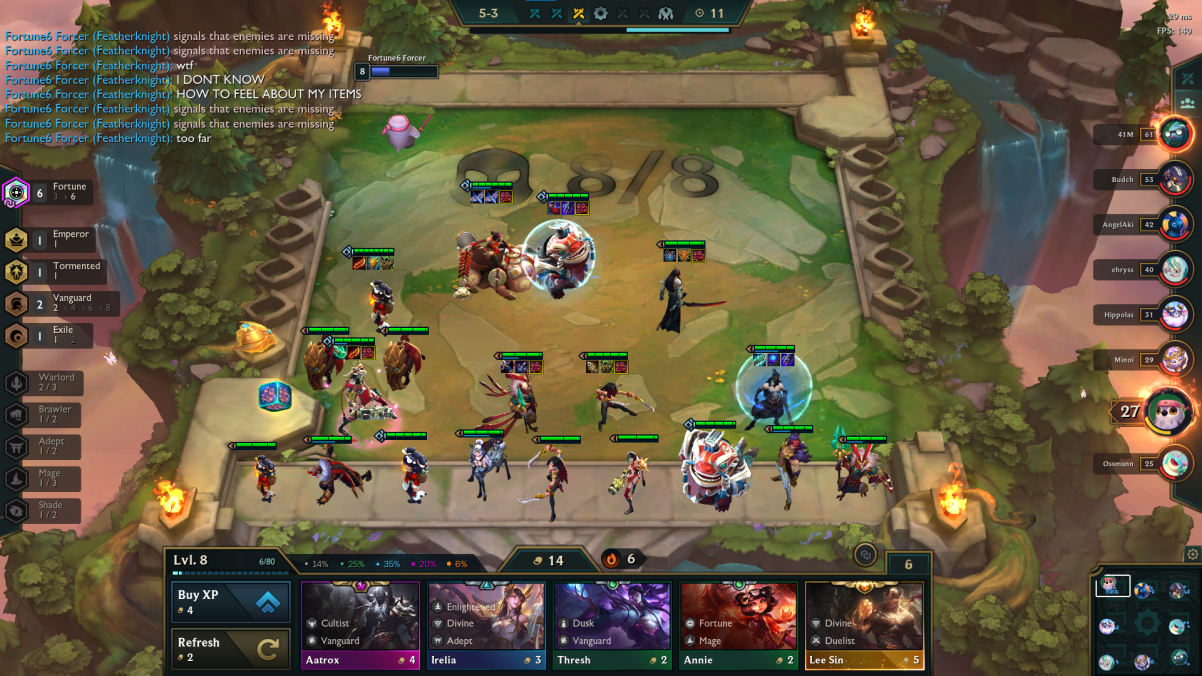1star_annie: (223, 430, 287, 521)
1star_azir: (470, 346, 552, 456), (823, 416, 902, 513)
1star_azirsoldier: (289, 318, 357, 400), (371, 319, 439, 401)
1star_jinx: (605, 431, 669, 522)
1star_katarina: (571, 345, 668, 442), (511, 428, 590, 525)
1star_kaynblue: (741, 337, 805, 450)
1star_lillia: (451, 421, 518, 506)
1star_pyke: (297, 428, 376, 511)
1star_sett: (760, 417, 819, 517)
1star_yone: (646, 231, 734, 340)
2star_annie: (333, 239, 404, 338), (369, 420, 440, 519)
2star_jinx: (316, 326, 406, 451)
2star_jinx_chosen: (314, 324, 404, 449)
2star_sejuani: (440, 174, 546, 303)
2star_tahmkench: (528, 179, 608, 308), (671, 411, 763, 517)
item_bf: (498, 358, 515, 374)
item_bluebuff: (765, 351, 782, 367)
item_chain: (661, 247, 678, 263)
item_guinsoo: (345, 344, 362, 360), (350, 254, 367, 270)
item_gunblade: (751, 351, 768, 367)
item_ie: (584, 358, 601, 374)
item_lastwhisper: (512, 358, 529, 374)
item_locket: (676, 247, 693, 263)
item_shojin: (331, 343, 348, 359)
item_shroud: (545, 199, 562, 215)
item_spark: (482, 188, 499, 204), (468, 188, 485, 204)
item_thief: (612, 358, 629, 374), (690, 247, 707, 263), (572, 200, 589, 216), (496, 189, 513, 205), (359, 345, 376, 361), (527, 358, 544, 374)
item_trapclaw: (559, 199, 576, 215), (778, 351, 795, 367)
item_vanguard: (364, 254, 381, 270)
item_warmogs: (378, 255, 395, 271), (597, 358, 614, 374)
trait_adept1: (1, 431, 126, 462)
trait_brawler1: (1, 397, 126, 428)
trait_emperor1: (1, 224, 126, 255)
trait_exile1: (1, 320, 126, 351)
trait_fortune6: (1, 174, 126, 210)
trait_fortune_chosen: (1, 172, 32, 212)
trait_mage1: (1, 463, 126, 494)
trait_shade1: (1, 496, 126, 527)
trait_tormented1: (1, 256, 126, 287)
trait_vanguard2: (1, 289, 126, 320)
trait_warlord2: (1, 367, 126, 398)
